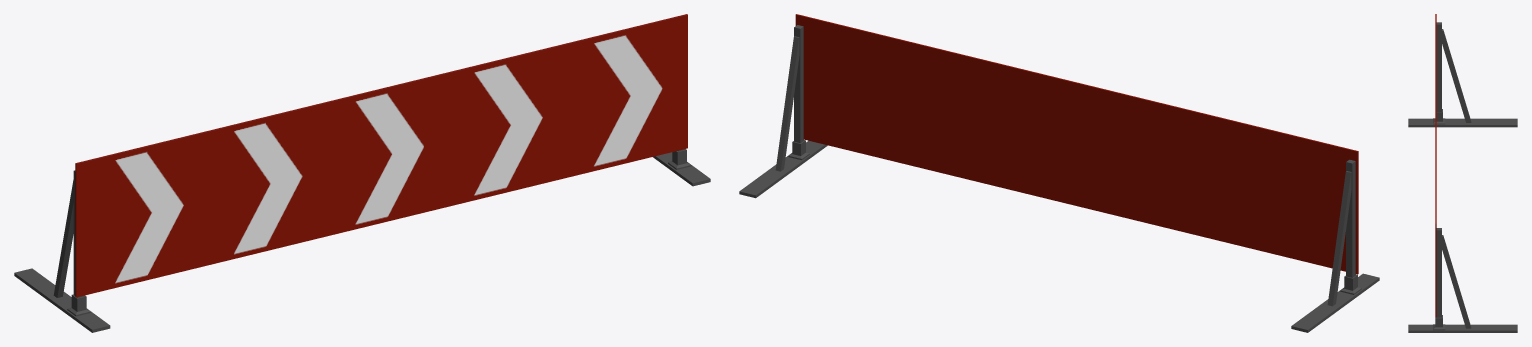
File: LP_Road Barrier_002.fbx
3 renders of one model, left to right at view 1: azimuth 30°, elevation 25°; view 2: azimuth 150°, elevation 25°; view 3: azimuth 270°, elevation 25°, orthographic. The views are drawn at different scales.
Parts seen in each view (by area): view 1: LP_Road Barrier_002; view 2: LP_Road Barrier_002; view 3: LP_Road Barrier_002.
Part boxes in pixels (bbox=[...]): LP_Road Barrier_002: bbox=[14, 14, 710, 332]; LP_Road Barrier_002: bbox=[739, 14, 1379, 332]; LP_Road Barrier_002: bbox=[1408, 14, 1517, 332].
Size of the model in its own units: 7.41 by 1.76 by 1.62.
